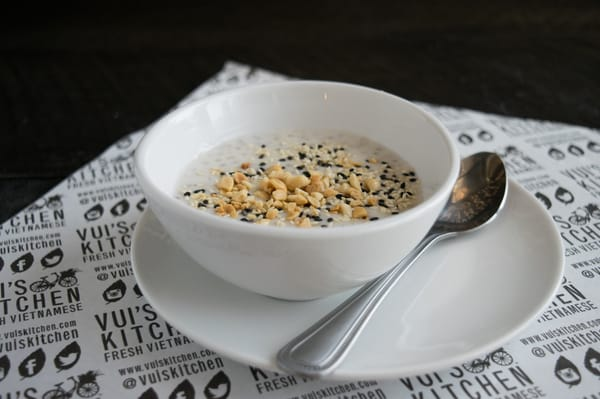salad: (141, 150, 510, 381), (270, 152, 509, 381)
sushi: (131, 73, 461, 302)
